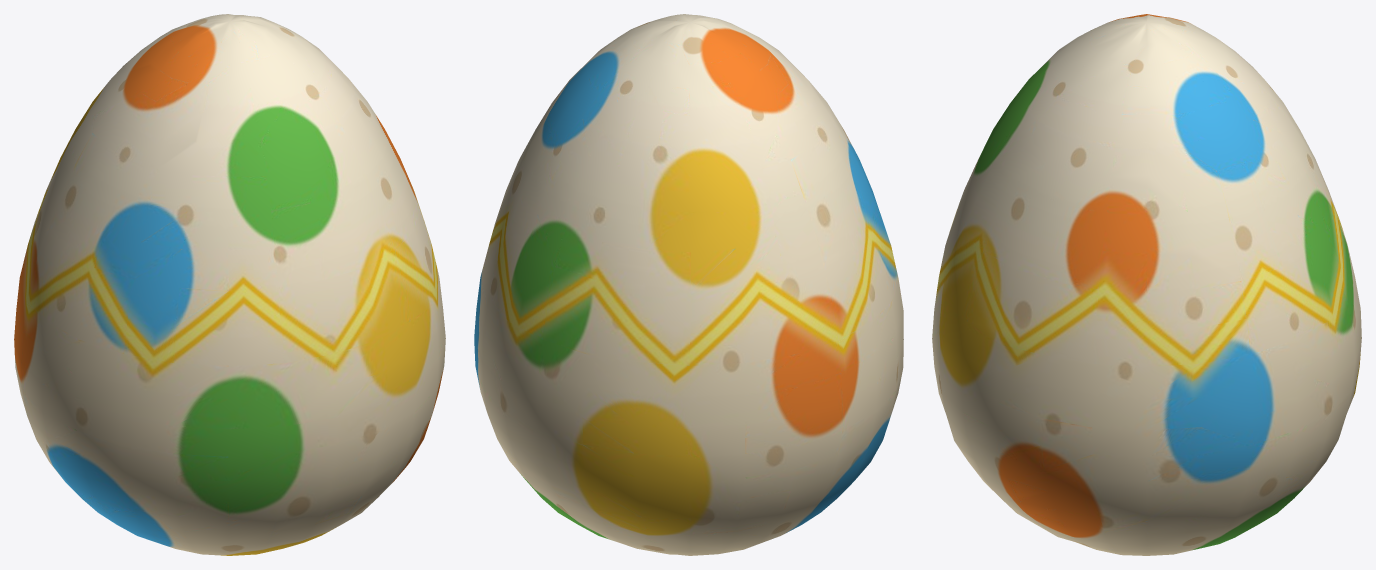
Rendered from egg.glb.
The picture shows the model from 3 angles, left to right: view 1: azimuth 30°, elevation 25°; view 2: azimuth 150°, elevation 25°; view 3: azimuth 270°, elevation 25°; orthographic projection.
Size of the model in its own units: 0.7617 by 1 by 0.7578.
Materials: 1 (1 with a texture image).
